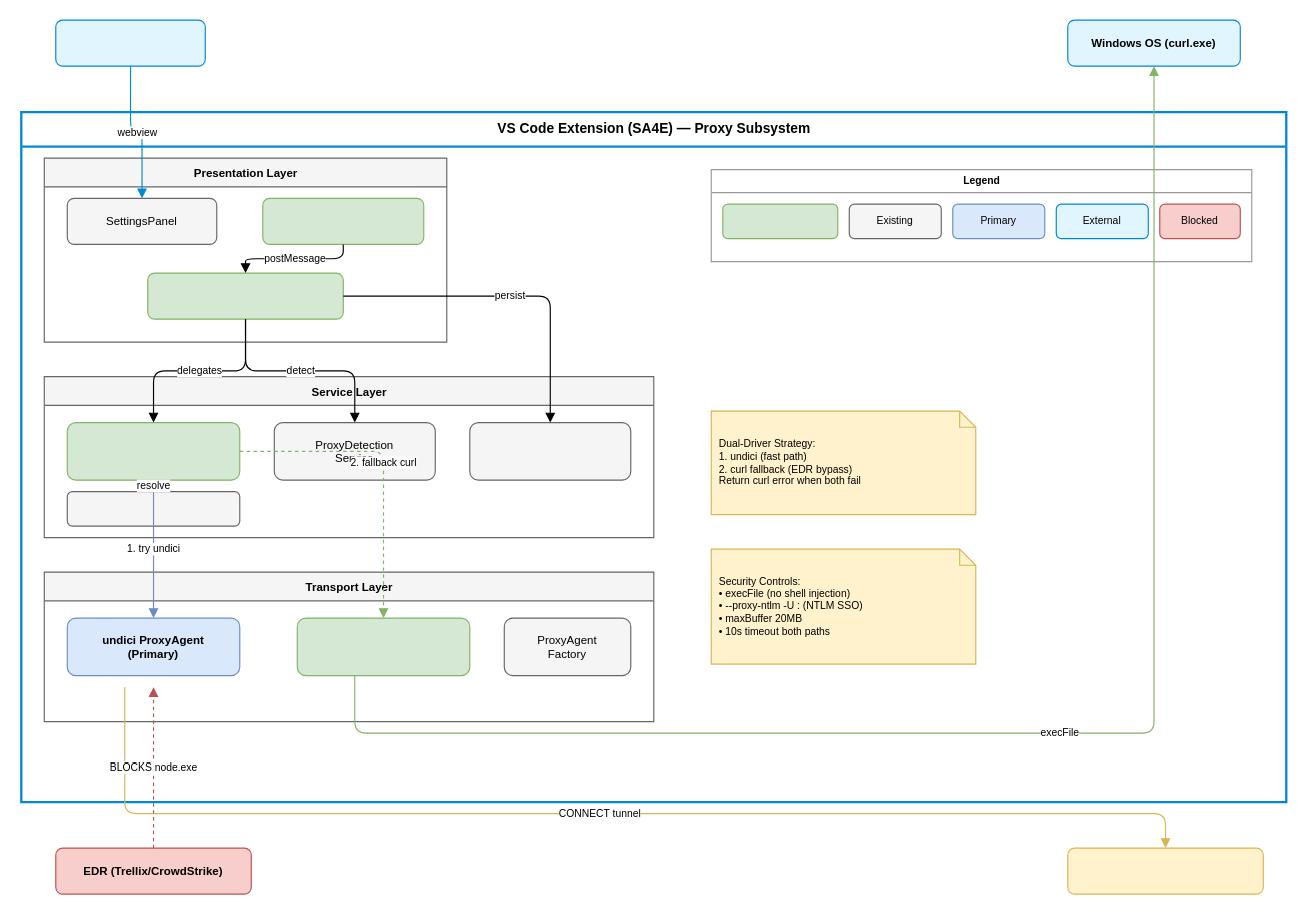
Image size: 1306x914. Some labels were removed from this diagram. Each missing label, with the centre of its shape:
"Corporate Proxy (Skyhigh SWG)" goes at (1165,870).
"CurlTransport (Fallback — NEW)" goes at (383,646).
"New/Modified" goes at (780,221).
"proxy-tab.js (UI)" goes at (343,220).
"ProxyConfig Service" goes at (550,450).
"ProxyMessageHandler" goes at (245,295).
"ProxyTestService (Dual-Driver)" goes at (153,450).
"User (Developer)" goes at (130,42).
"VscodeProxyResolver" goes at (153,508).
